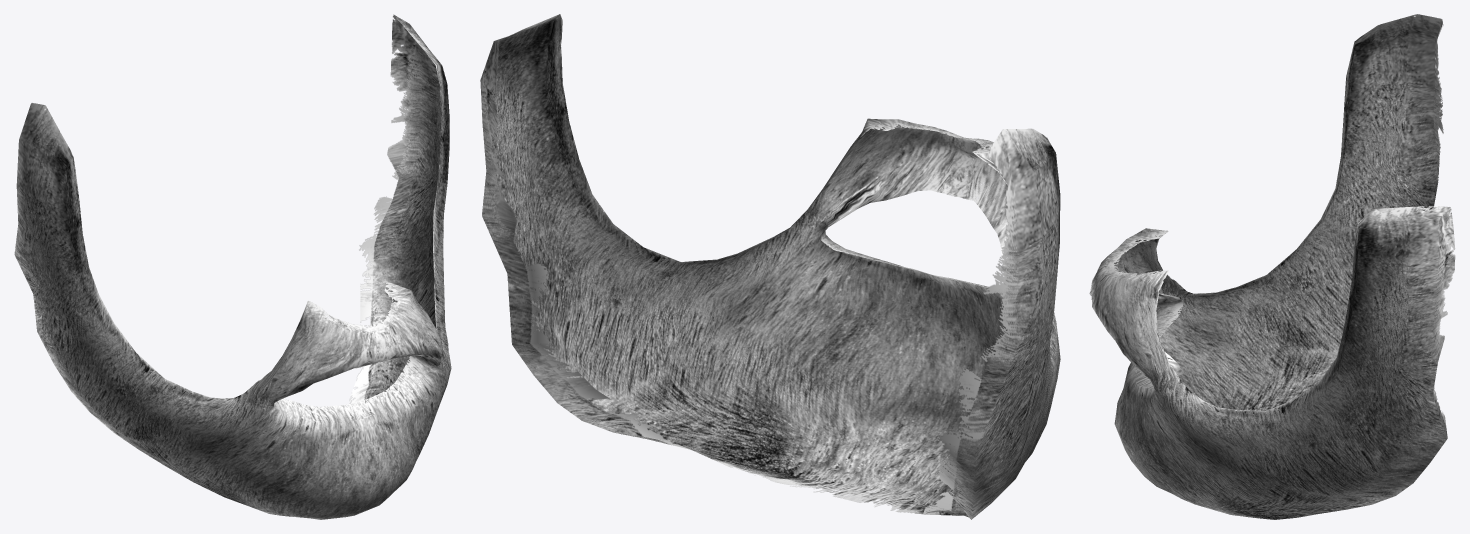
The model's file is facial_beard_full.gltf.
3 views of the same model, side by side, from view 1: azimuth 30°, elevation 25°; view 2: azimuth 150°, elevation 25°; view 3: azimuth 270°, elevation 25° (orthographic). The views are drawn at different scales.
Visible parts, largest first — view 1: facial_beard_full; view 2: facial_beard_full; view 3: facial_beard_full.
Part boxes in pixels (x1=…): facial_beard_full: x1=14, y1=14, x2=451, y2=519; facial_beard_full: x1=480, y1=14, x2=1060, y2=519; facial_beard_full: x1=1089, y1=14, x2=1455, y2=519.
Size of the model in its own units: 0.1458 by 0.128 by 0.1085.
1 material, 1 textured.
